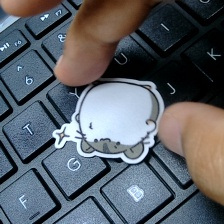mouse: (54, 73, 167, 168)
